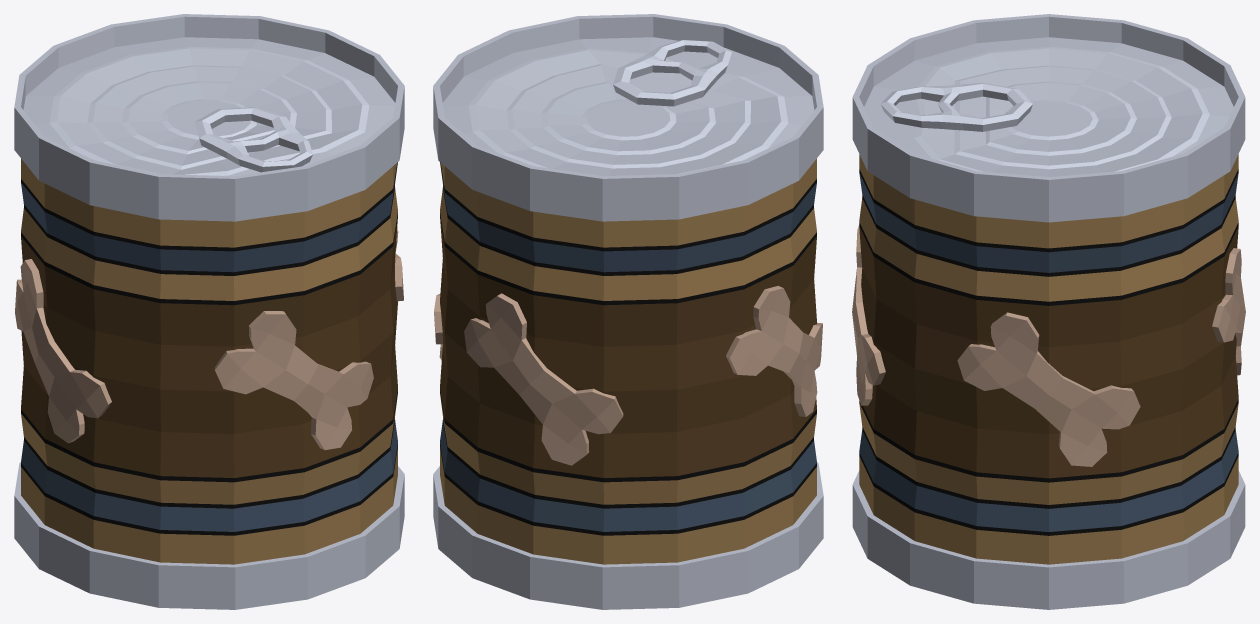
The model's file is Canned Food 1.fbx.
3 renders of one model, left to right at view 1: azimuth 30°, elevation 25°; view 2: azimuth 150°, elevation 25°; view 3: azimuth 270°, elevation 25°, orthographic.
Visible parts, largest first — view 1: Canned Food 1; view 2: Canned Food 1; view 3: Canned Food 1.
Part boxes in pixels (x1,y1,x2,y2): Canned Food 1: (14, 14, 404, 609); Canned Food 1: (433, 14, 823, 609); Canned Food 1: (852, 14, 1245, 609).
Size of the model in its own units: 20.76 by 25 by 20.76.
